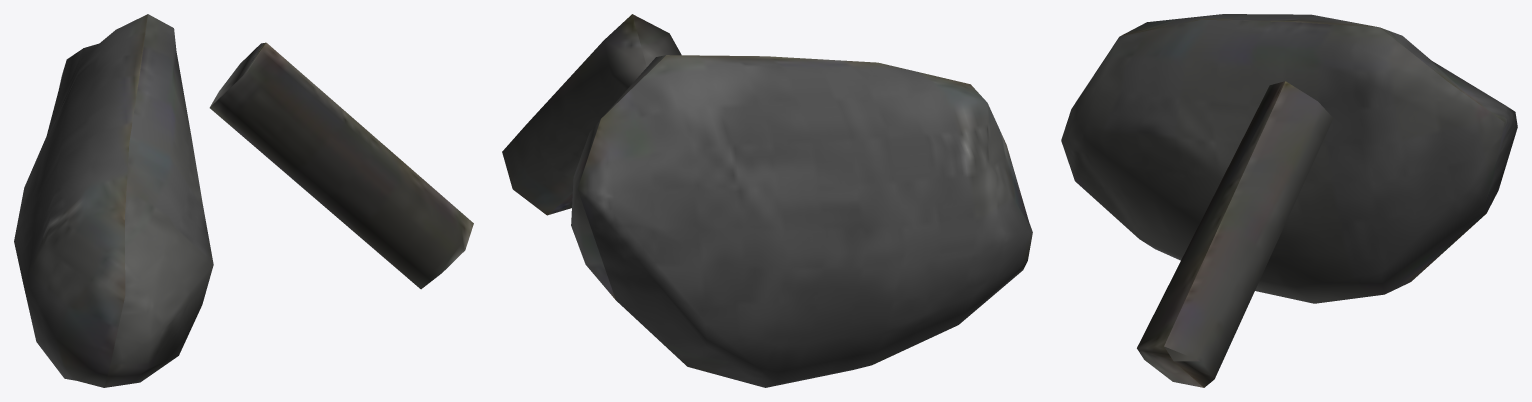
Rendered from flint-kit.glb.
3 renders of one model, left to right at view 1: azimuth 30°, elevation 25°; view 2: azimuth 150°, elevation 25°; view 3: azimuth 270°, elevation 25°, orthographic. The views are drawn at different scales.
Parts seen in each view (by area): view 1: flint-kit; view 2: flint-kit; view 3: flint-kit.
Part boxes in pixels (x1,y1,x2,y2): flint-kit: (14, 14, 473, 387); flint-kit: (502, 14, 1032, 387); flint-kit: (1061, 14, 1517, 387).
Size of the model in its own units: 0.2178 by 0.1396 by 0.1858.
1 material, 1 textured.
